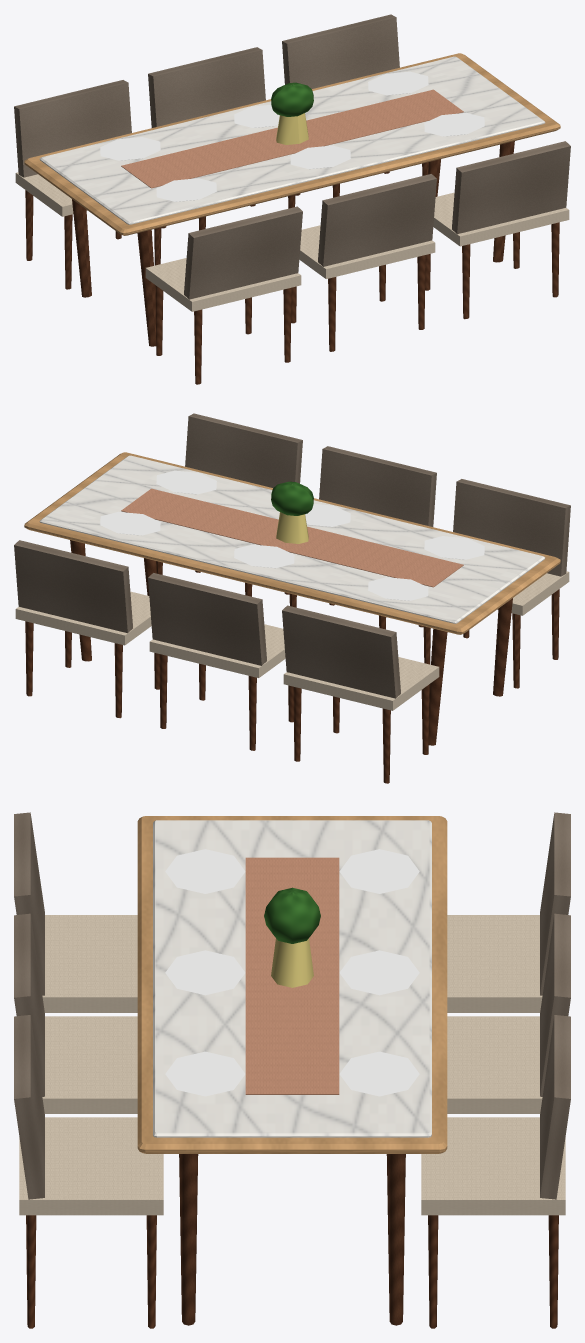
File: dining_table_6chairs.glb
The picture shows the model from 3 angles, top to bottom: view 1: azimuth 30°, elevation 25°; view 2: azimuth 150°, elevation 25°; view 3: azimuth 270°, elevation 25°; orthographic projection. The views are drawn at different scales.
Visible parts, largest first — view 1: dining_table_6chairs_fabricVelvet, dining_table_6chairs_marbleCarrara, dining_table_6chairs_woodWalnut, dining_table_6chairs_pillowTerra, dining_table_6chairs_fabricLinen, dining_table_6chairs_woodOak, dining_table_6chairs_ceramicWhite, dining_table_6chairs_foliageLight, dining_table_6chairs_metalBrass; view 2: dining_table_6chairs_fabricVelvet, dining_table_6chairs_marbleCarrara, dining_table_6chairs_woodWalnut, dining_table_6chairs_pillowTerra, dining_table_6chairs_fabricLinen, dining_table_6chairs_woodOak, dining_table_6chairs_ceramicWhite, dining_table_6chairs_foliageLight, dining_table_6chairs_metalBrass; view 3: dining_table_6chairs_fabricLinen, dining_table_6chairs_marbleCarrara, dining_table_6chairs_fabricVelvet, dining_table_6chairs_pillowTerra, dining_table_6chairs_woodOak, dining_table_6chairs_ceramicWhite, dining_table_6chairs_woodWalnut, dining_table_6chairs_foliageLight, dining_table_6chairs_metalBrass.
Boxes of the visible parts, box(x1,y1,x2,y2) form: dining_table_6chairs_fabricVelvet: box(14, 14, 570, 299); dining_table_6chairs_marbleCarrara: box(39, 56, 545, 224); dining_table_6chairs_woodWalnut: box(25, 141, 559, 384); dining_table_6chairs_pillowTerra: box(121, 89, 463, 188); dining_table_6chairs_fabricLinen: box(15, 172, 569, 311); dining_table_6chairs_woodOak: box(24, 53, 560, 235); dining_table_6chairs_ceramicWhite: box(100, 71, 484, 201); dining_table_6chairs_foliageLight: box(271, 82, 313, 116); dining_table_6chairs_metalBrass: box(276, 113, 308, 144); dining_table_6chairs_fabricVelvet: box(14, 413, 570, 698); dining_table_6chairs_marbleCarrara: box(39, 455, 545, 623); dining_table_6chairs_woodWalnut: box(25, 540, 559, 783); dining_table_6chairs_pillowTerra: box(121, 488, 463, 587); dining_table_6chairs_fabricLinen: box(15, 571, 569, 710); dining_table_6chairs_woodOak: box(24, 452, 560, 634); dining_table_6chairs_ceramicWhite: box(100, 470, 484, 600); dining_table_6chairs_foliageLight: box(271, 481, 313, 515); dining_table_6chairs_metalBrass: box(276, 512, 308, 543); dining_table_6chairs_fabricLinen: box(19, 915, 565, 1215); dining_table_6chairs_marbleCarrara: box(153, 820, 431, 1137); dining_table_6chairs_fabricVelvet: box(14, 812, 570, 1199); dining_table_6chairs_pillowTerra: box(245, 857, 339, 1094); dining_table_6chairs_woodOak: box(137, 816, 447, 1153); dining_table_6chairs_ceramicWhite: box(165, 849, 419, 1096); dining_table_6chairs_woodWalnut: box(26, 1154, 558, 1328); dining_table_6chairs_foliageLight: box(264, 887, 320, 943); dining_table_6chairs_metalBrass: box(271, 938, 313, 987).
Size of what is drawn, in the model's own units: 1.95 by 0.82 by 1.38.
9 materials, 7 textured.
